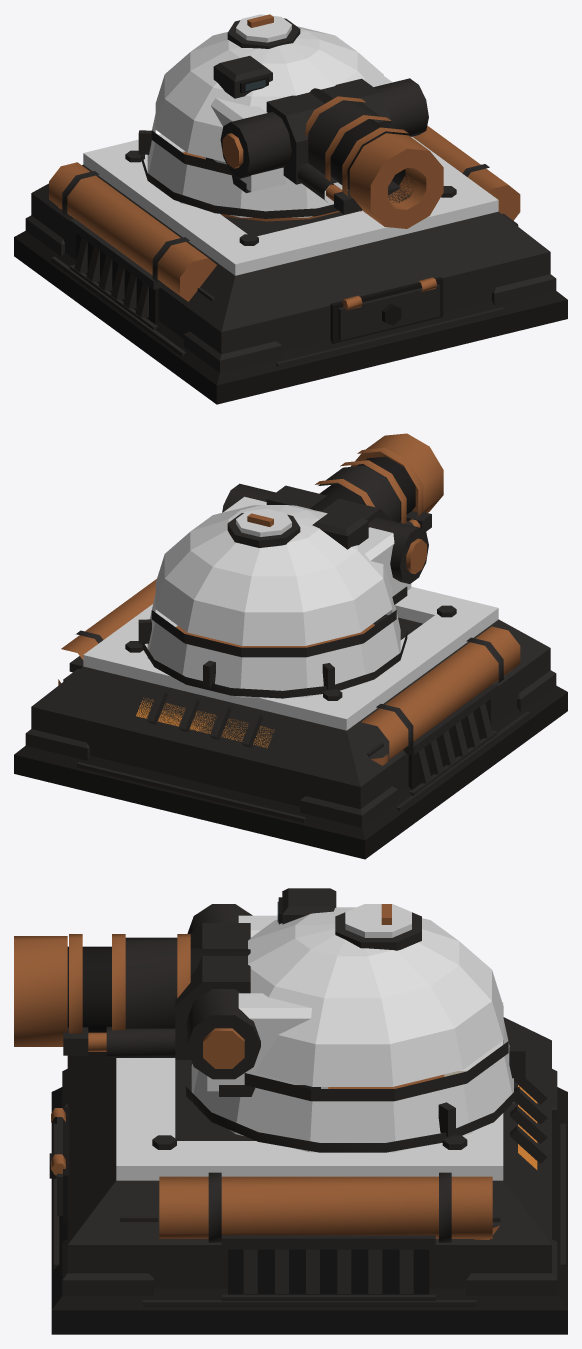
File: str_t1_pd.72510665.raw.glb
3 views of the same model, one above another, from view 1: azimuth 30°, elevation 25°; view 2: azimuth 150°, elevation 25°; view 3: azimuth 270°, elevation 25° (orthographic). The views are drawn at different scales.
Visible parts, largest first — view 1: lod0; view 2: lod0; view 3: lod0.
Boxes of the visible parts, x1,y1,x2,y2 form: lod0: (14, 14, 567, 404); lod0: (14, 433, 567, 859); lod0: (14, 888, 567, 1334).
Size of what is drawn, in the model's own units: 0.9619 by 0.645 by 1.03.
